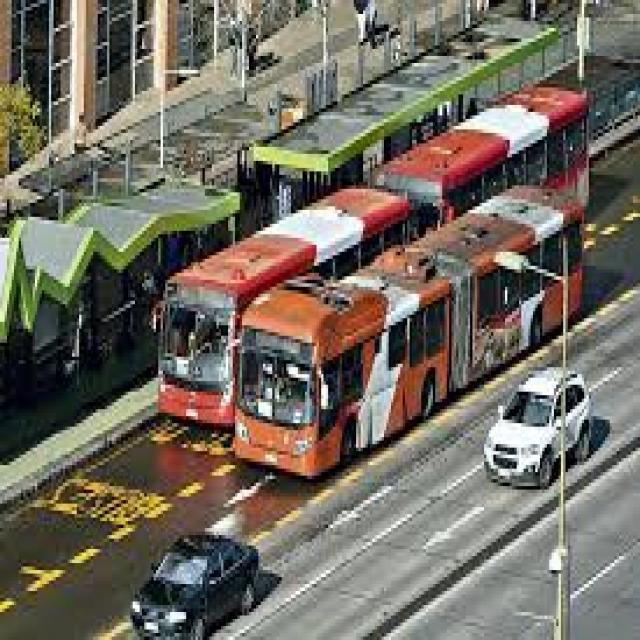AB: (233, 175, 591, 500)
